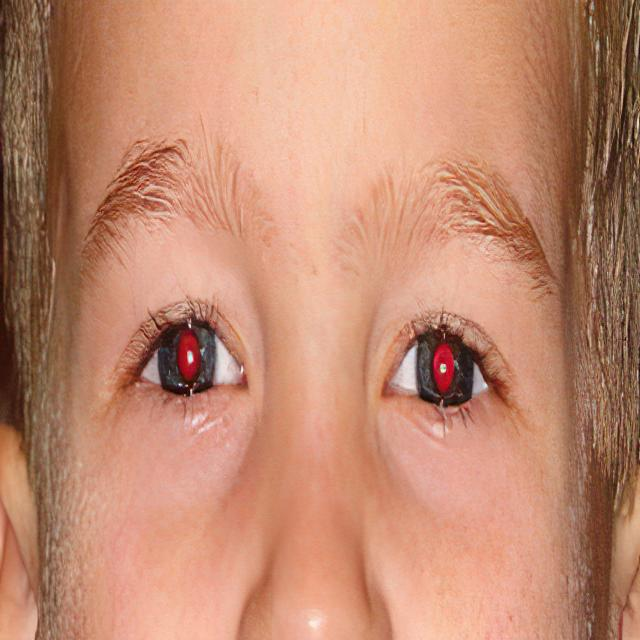reflexo-normal: (122, 295, 260, 421), (389, 290, 498, 443)
